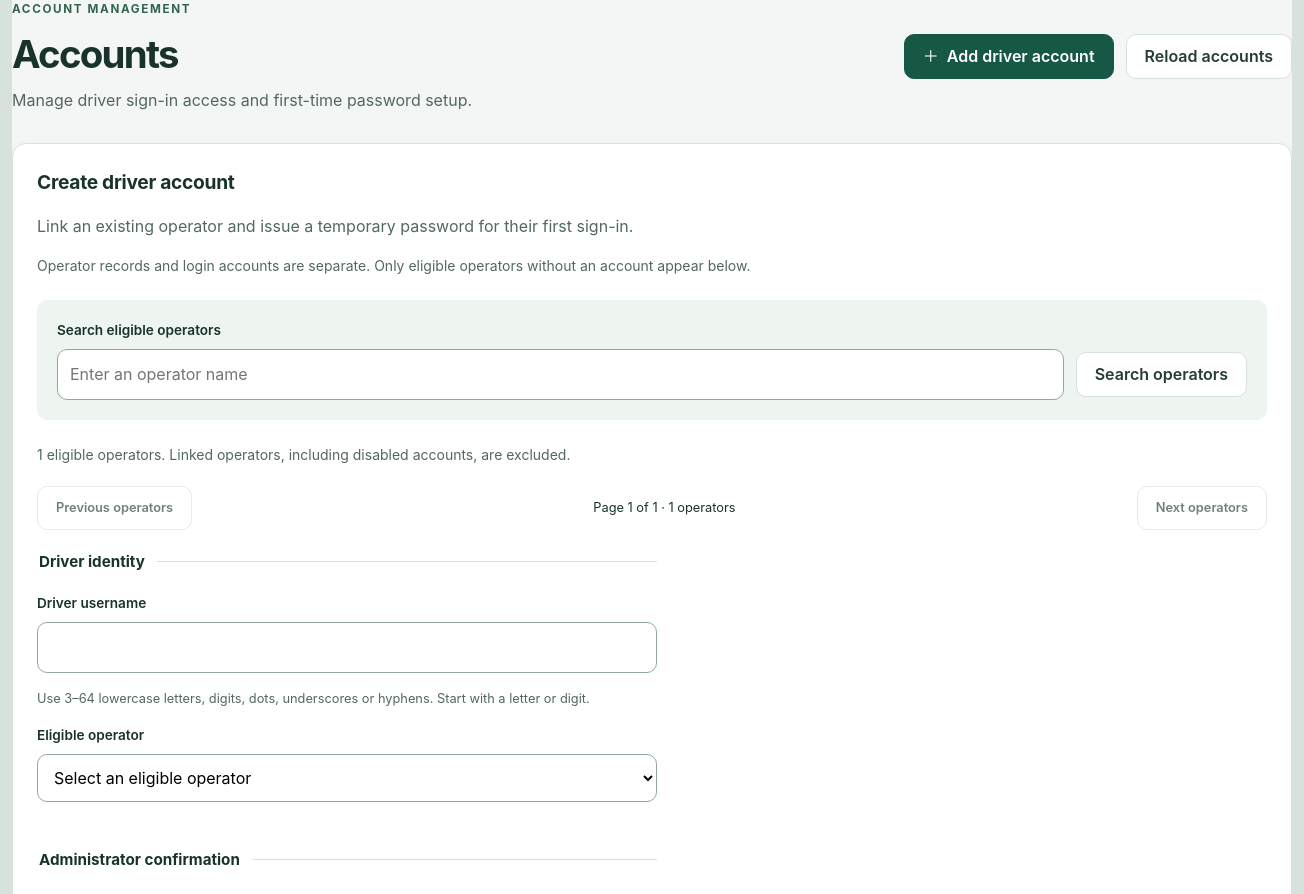
React administrator accounts › blocks further mutations after error 400 until explicit reload
The width and height of the screenshot is (1304, 894).
Expected: the dropdown labelled "Eligible operator" is enabled, [37, 754, 657, 802]
Type "test.driver" into the field labelled "Driver username" at (347, 648), box [37, 622, 657, 673]
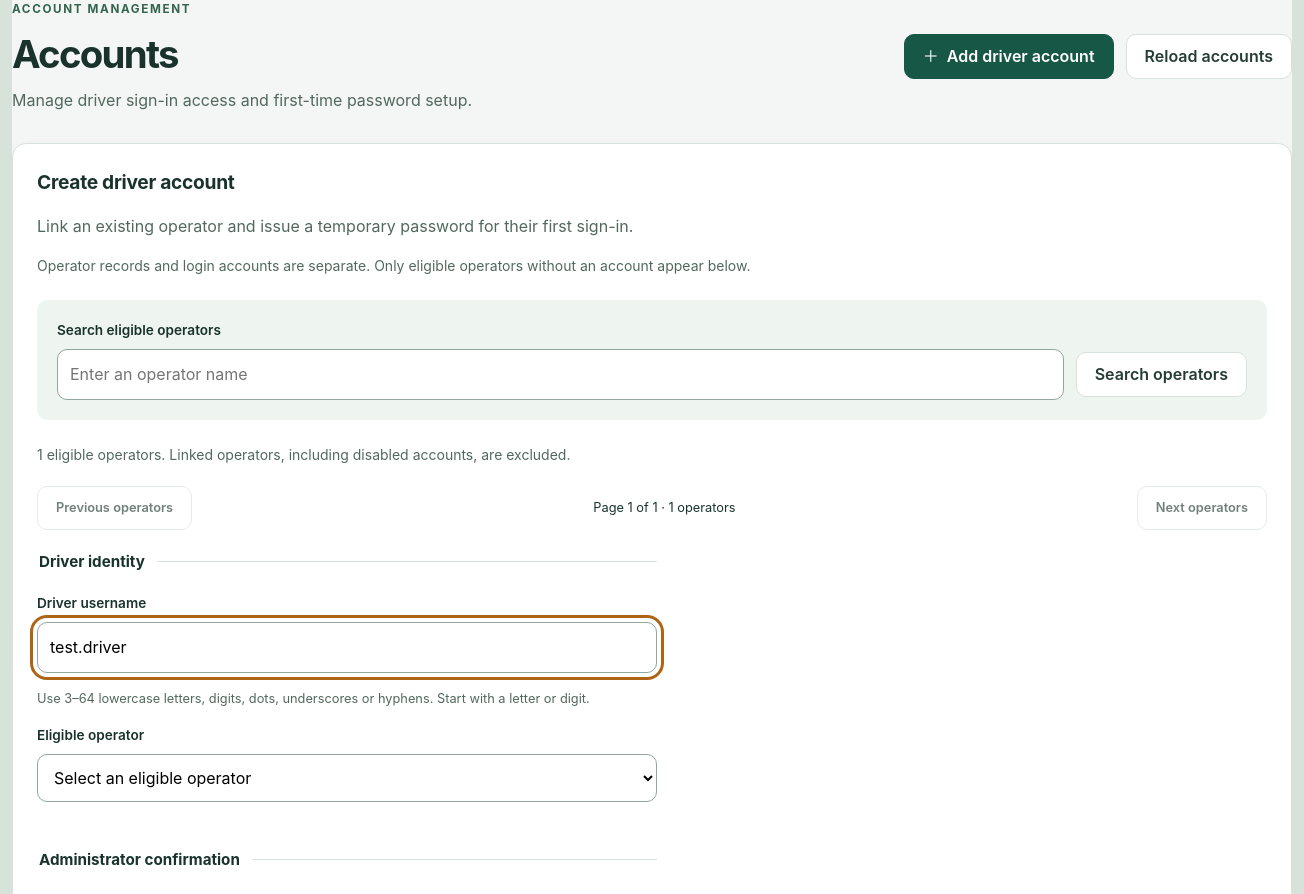
Select "<img src=x onerror=alert(1)> (#4)" in the dropdown labelled "Eligible operator" at (347, 778), box [37, 754, 657, 802]
(page scrolled)
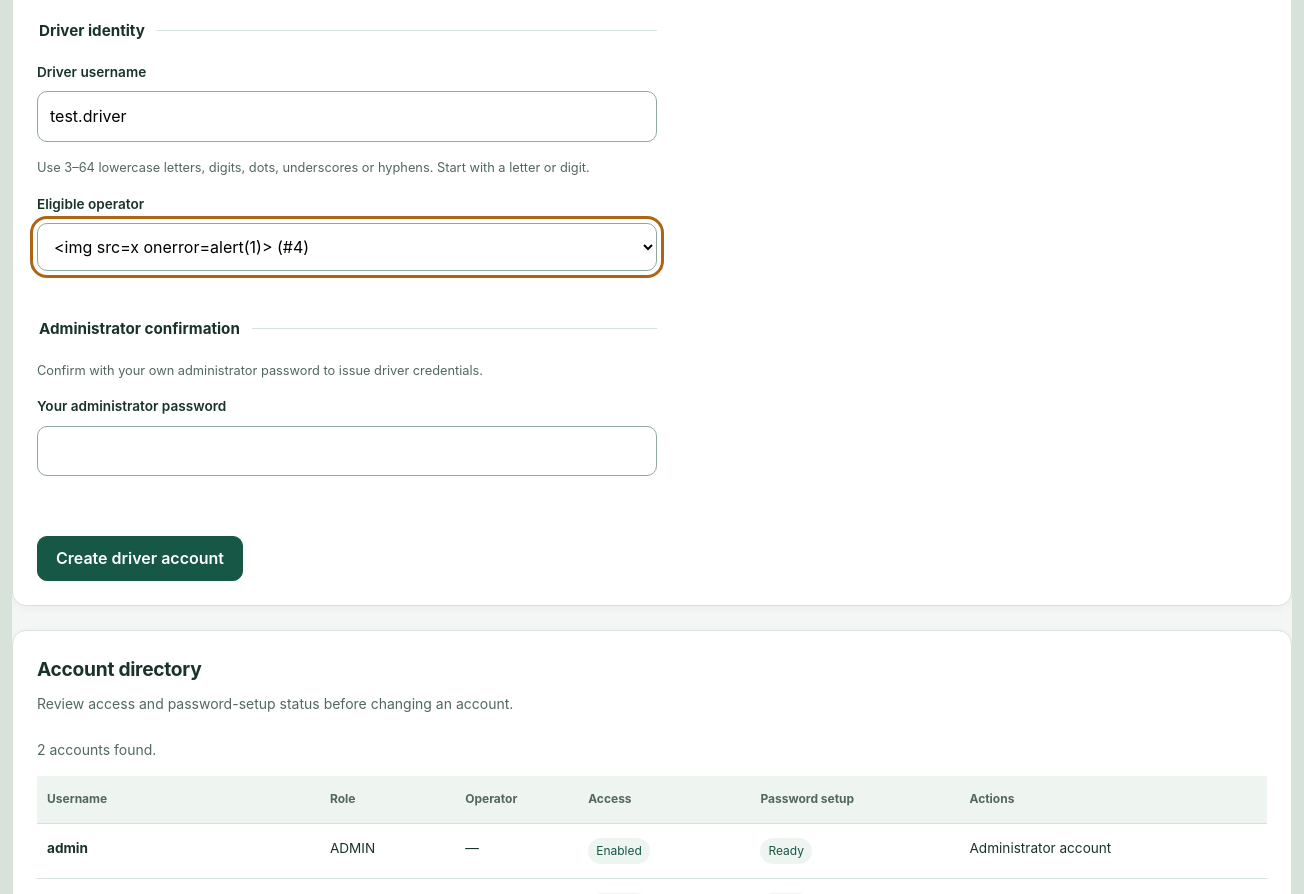
Type "test password" into the password field labelled "Your administrator password" at (347, 451), box [37, 426, 657, 476]
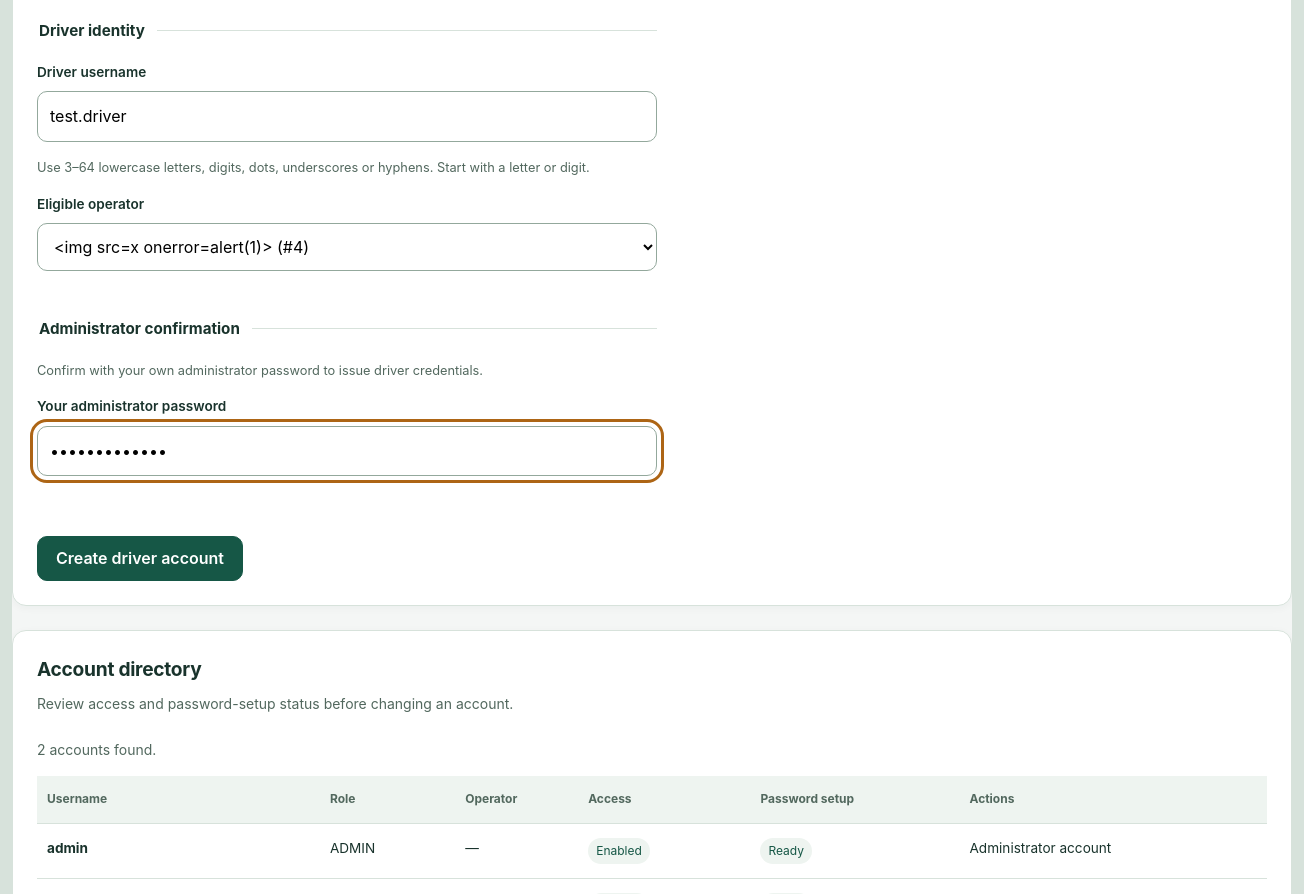
Click the button "Create driver account" at (140, 559), box [37, 536, 243, 581]
(page scrolled)
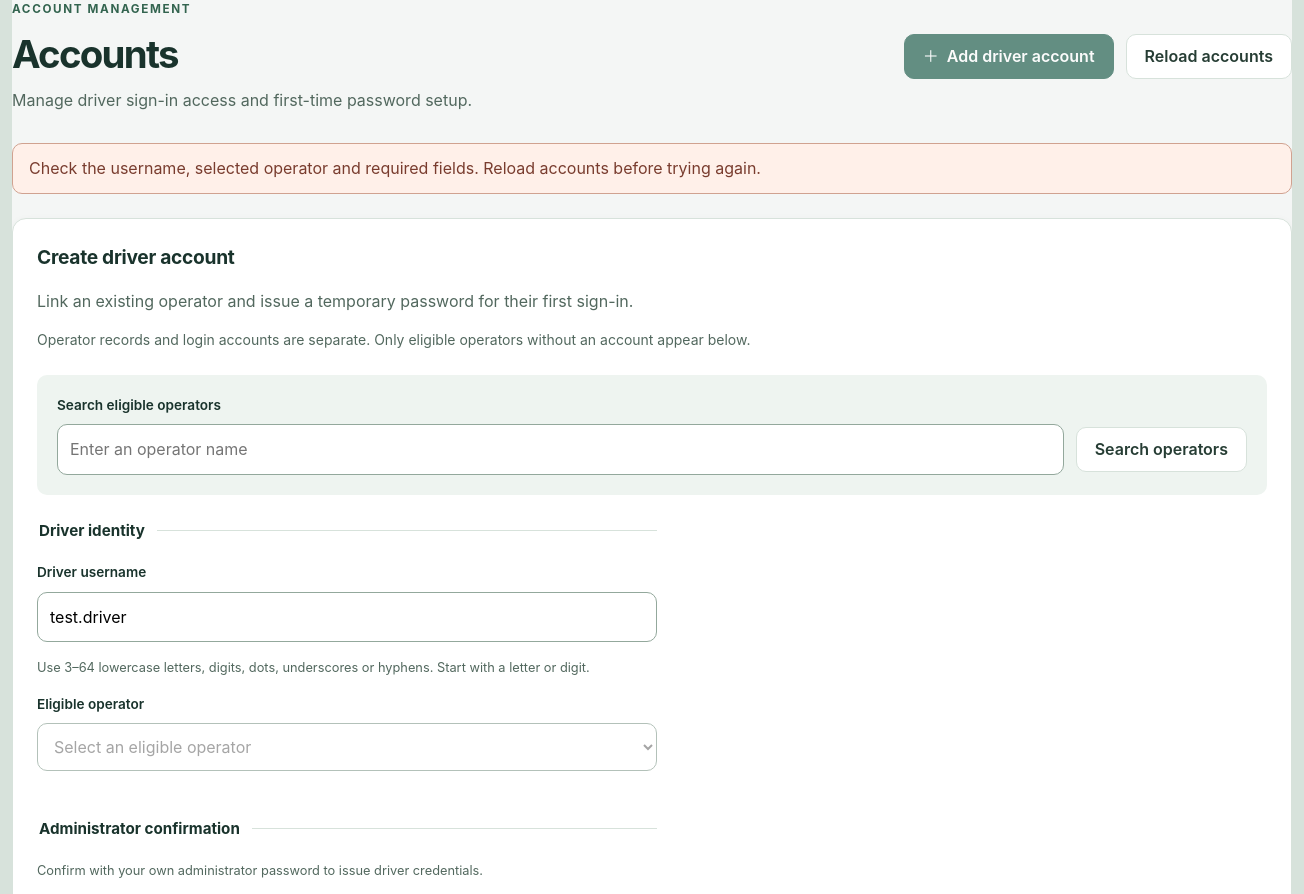
Now the message is shown, box [12, 143, 1292, 194]
Click the button "Reload accounts" at (1209, 56), box [1126, 34, 1292, 79]
(page scrolled)
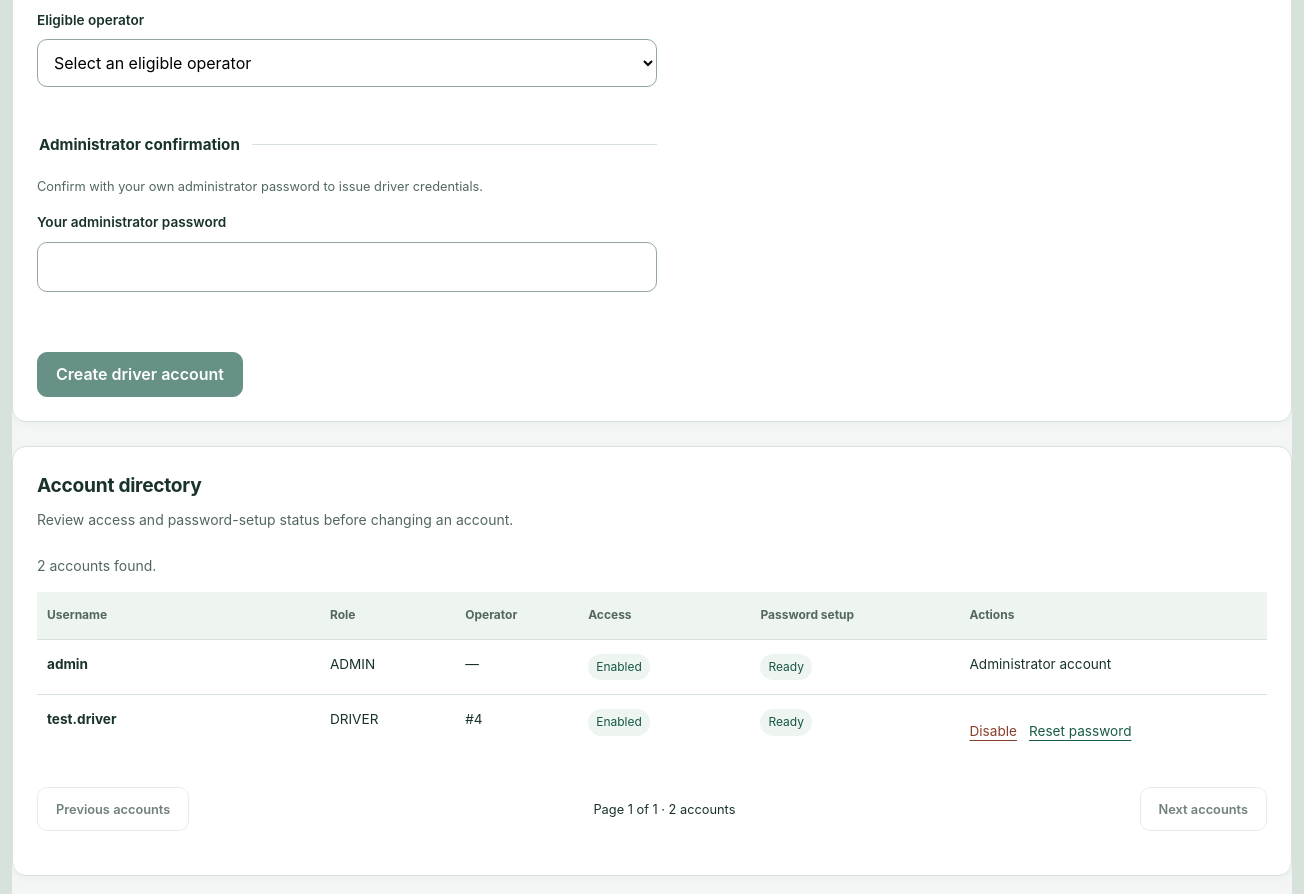
Now the column heading "test.driver" is shown, box [37, 695, 320, 767]
